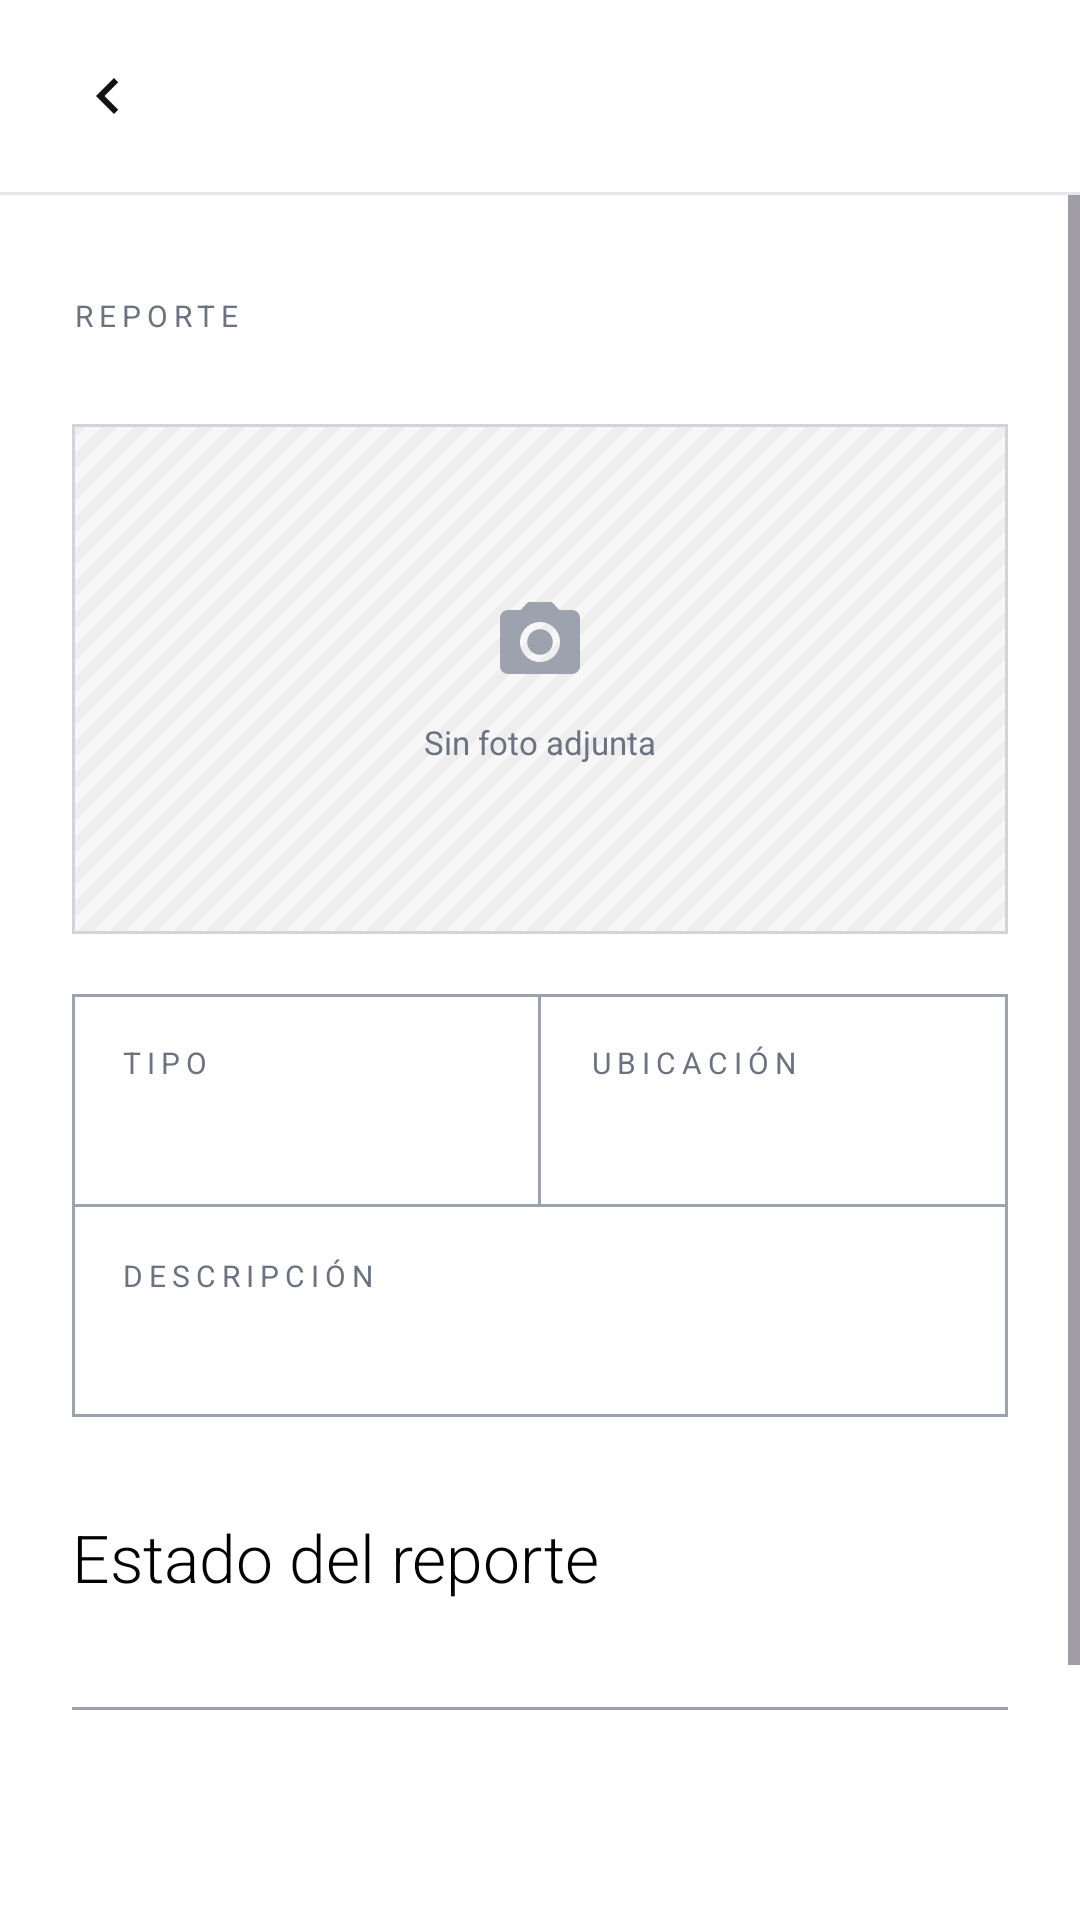

Icon bounding boxes for this 1080px x 1920px phone screenshot, format (x1, y1, x2, y2):
camera: (500, 602, 580, 674)
Regresar: (96, 78, 118, 114)
